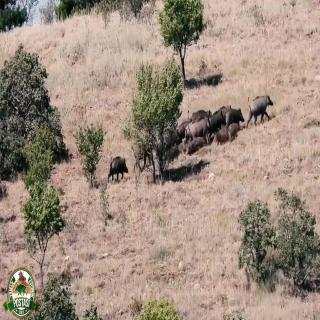Pig: (247, 90, 280, 137), (109, 154, 134, 187), (223, 105, 246, 132), (184, 114, 210, 136)
